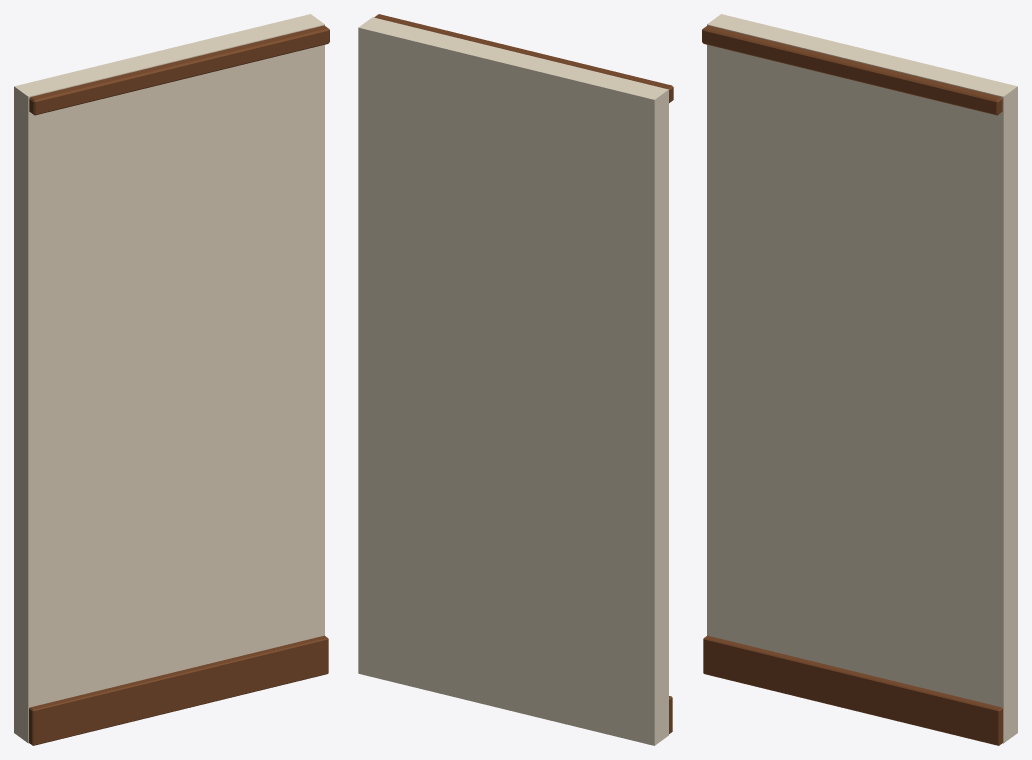
The model's file is wall_section.glb.
The picture shows the model from 3 angles, left to right: view 1: azimuth 30°, elevation 25°; view 2: azimuth 150°, elevation 25°; view 3: azimuth 330°, elevation 25°; orthographic projection.
Visible parts, largest first — view 1: wall_section; view 2: wall_section; view 3: wall_section.
Part boxes in pixels (left/top/right/bottom): wall_section: left=14, top=14, right=329, bottom=745; wall_section: left=358, top=14, right=673, bottom=745; wall_section: left=702, top=14, right=1017, bottom=745.
Size of the model in its own units: 1.2 by 2.5 by 0.14.
